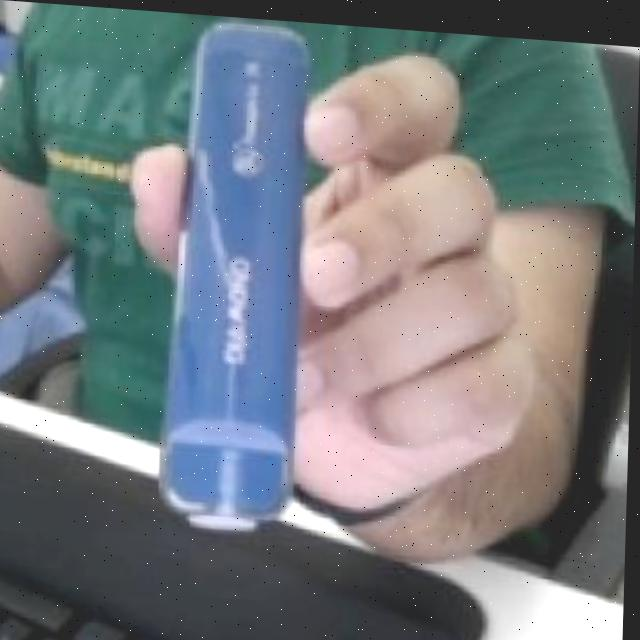vape: (159, 10, 312, 530)
